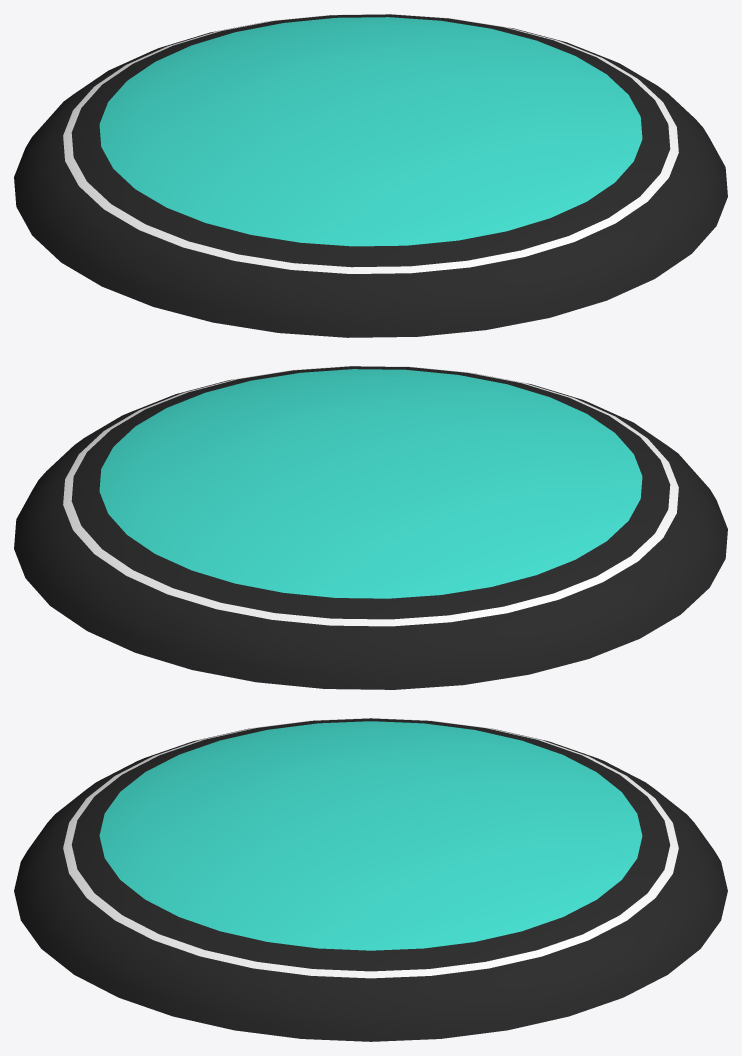
Rendered from SM_RepulsorTrampoline.fbx.
3 views of the same model, one above another, from view 1: azimuth 30°, elevation 25°; view 2: azimuth 150°, elevation 25°; view 3: azimuth 270°, elevation 25° (orthographic).
Visible parts, largest first — view 1: SM_RepulsorTrampoline; view 2: SM_RepulsorTrampoline; view 3: SM_RepulsorTrampoline.
Boxes of the visible parts, x1,y1,x2,y2 form: SM_RepulsorTrampoline: [14, 14, 727, 337]; SM_RepulsorTrampoline: [14, 366, 727, 689]; SM_RepulsorTrampoline: [14, 718, 727, 1041].
Bounding box in the file's own units: 89 × 11.56 × 89.
